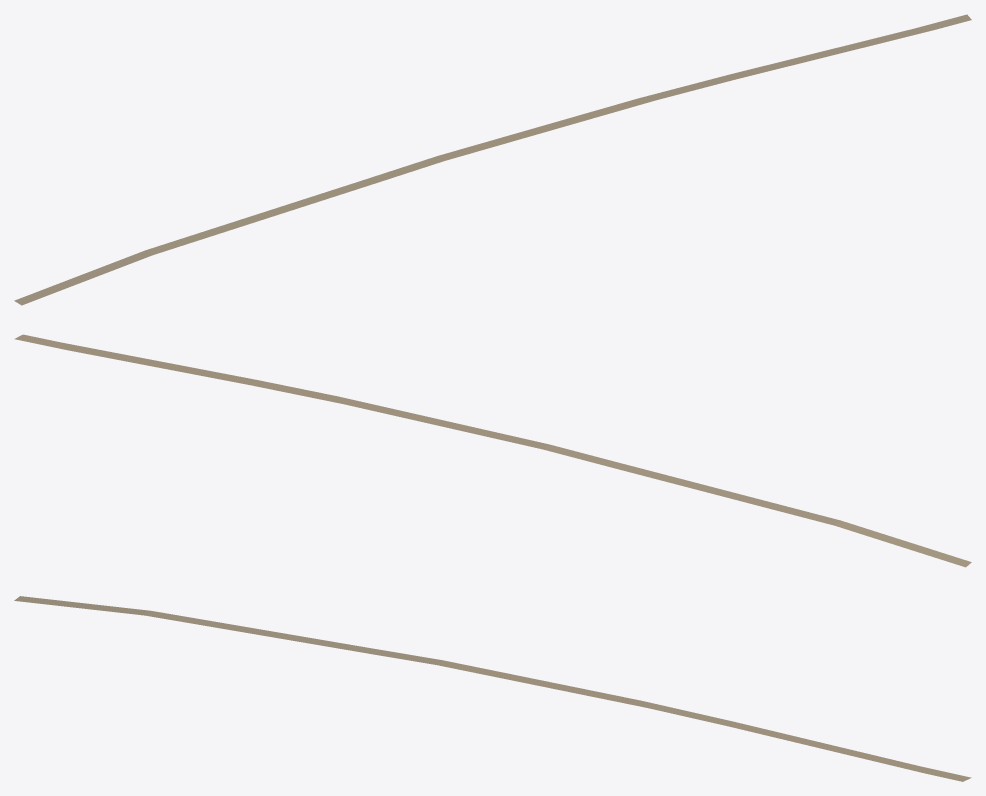
Rendered from farm_19_13_track.glb.
3 renders of one model, top to bottom at view 1: azimuth 30°, elevation 25°; view 2: azimuth 150°, elevation 25°; view 3: azimuth 330°, elevation 25°, orthographic. The views are drawn at different scales.
Visible parts, largest first — view 1: geometry_0; view 2: geometry_0; view 3: geometry_0.
Boxes of the visible parts, x1,y1,x2,y2 form: geometry_0: (14,14,971,305); geometry_0: (14,334,971,567); geometry_0: (14,596,971,781).
Size of the model in its own units: 261 by 7.97 by 16.92.
